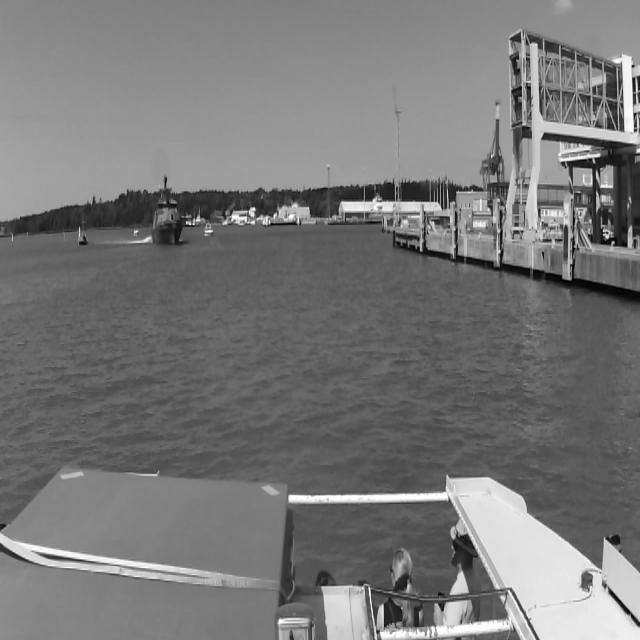buoy: (10, 232, 14, 243), (62, 232, 66, 241), (78, 225, 80, 235), (26, 230, 28, 237)
ship: (152, 173, 186, 248), (76, 202, 91, 250), (204, 222, 214, 238), (132, 227, 140, 236)
